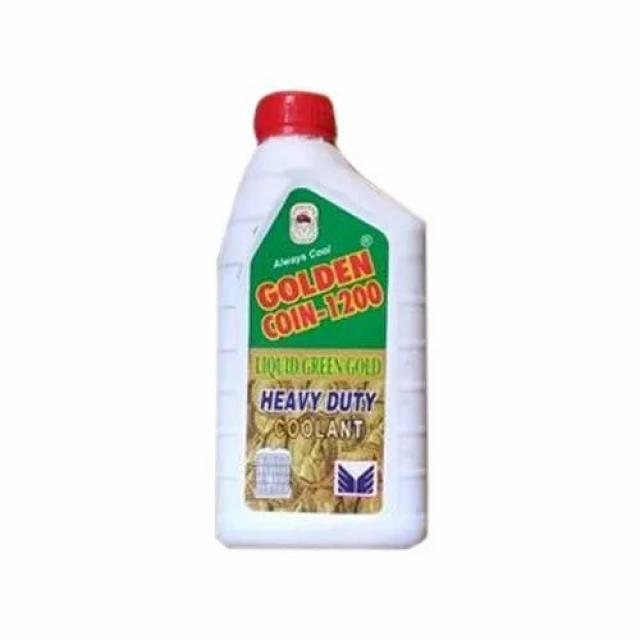coolant: (201, 77, 437, 555)
